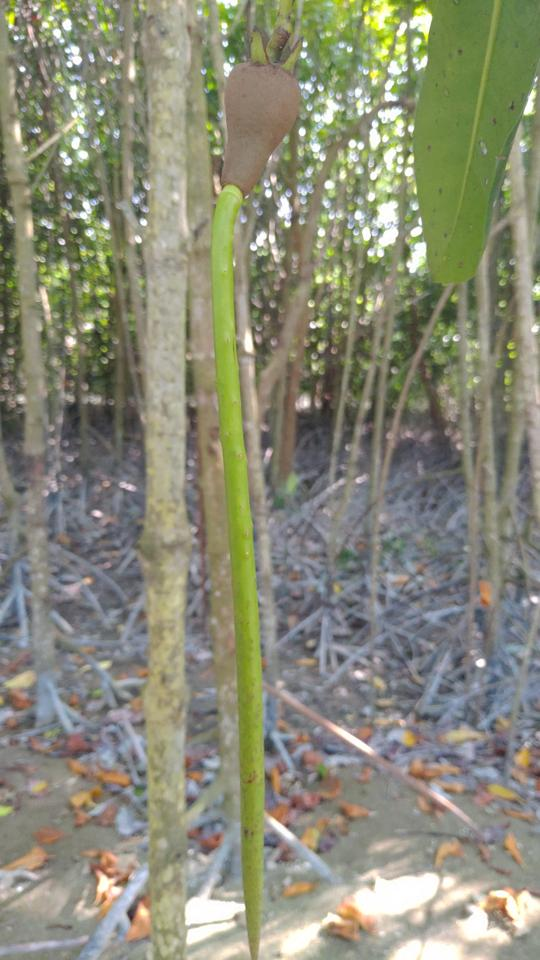setengah matang: (202, 25, 323, 955)
